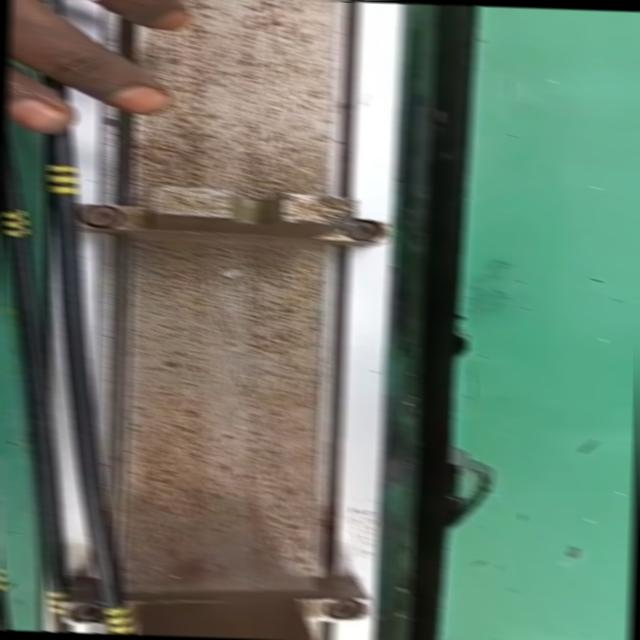yellow: (48, 162, 82, 196), (103, 604, 136, 634), (1, 210, 27, 235)
